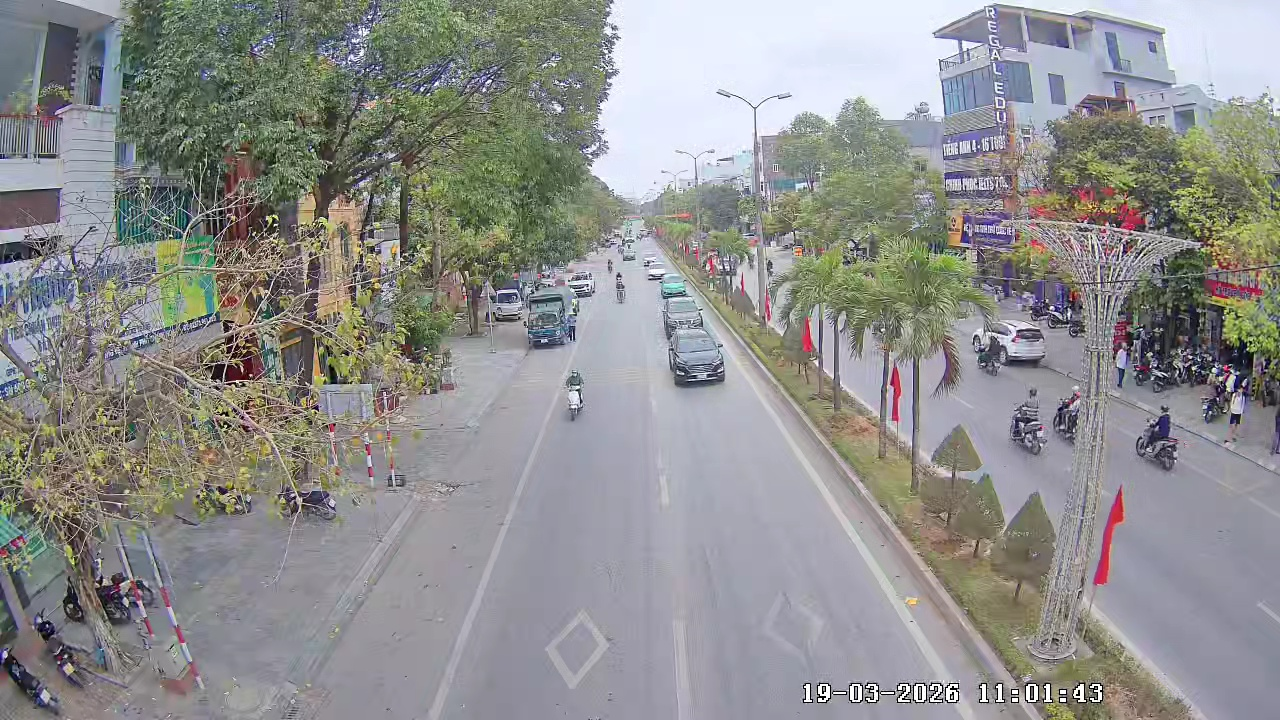car: (665, 325, 728, 386), (1004, 323, 1047, 367), (661, 298, 701, 333), (659, 270, 688, 300), (568, 268, 595, 298)
motorbike: (1134, 404, 1180, 469), (1009, 386, 1048, 455), (1052, 390, 1081, 443), (561, 367, 587, 422), (614, 274, 627, 304)
pedestrian: (1226, 388, 1245, 440)
truck: (523, 289, 575, 349)
